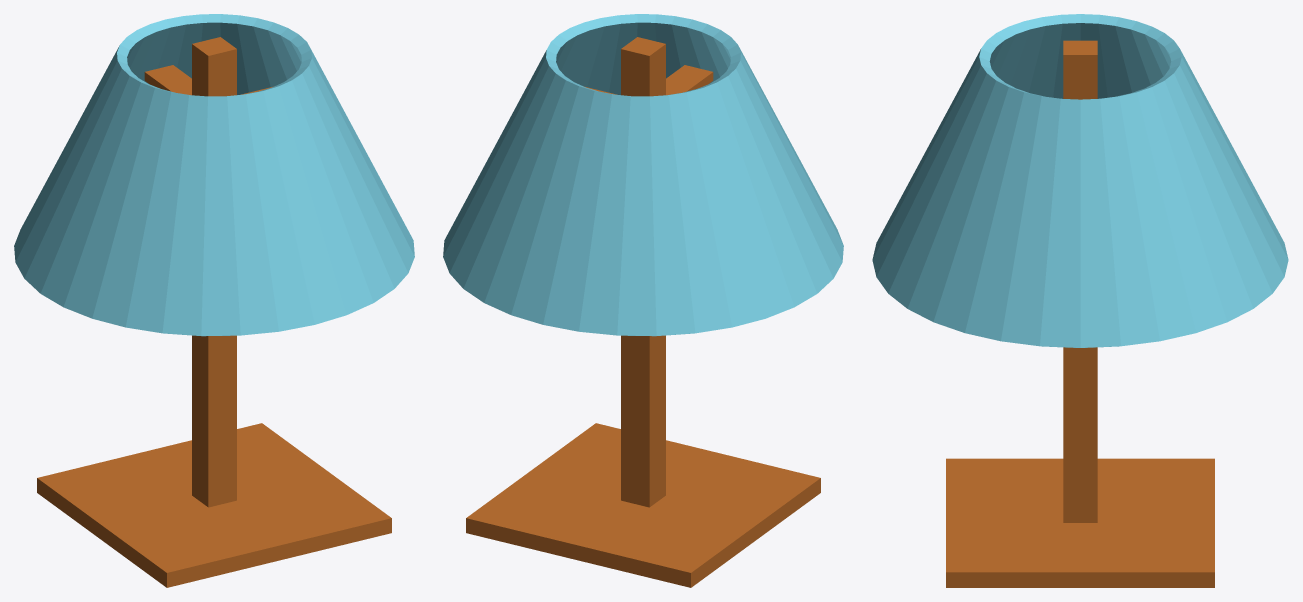
The model's file is smallLamp.fbx.
The picture shows the model from 3 angles, left to right: view 1: azimuth 30°, elevation 25°; view 2: azimuth 150°, elevation 25°; view 3: azimuth 270°, elevation 25°; orthographic projection. The views are drawn at different scales.
Visible parts, largest first — view 1: Circle, Plane; view 2: Circle, Plane; view 3: Circle, Plane.
Boxes of the visible parts, x1,y1,x2,y2 form: Circle: [14, 14, 414, 336]; Plane: [37, 37, 391, 587]; Circle: [443, 14, 843, 336]; Plane: [466, 37, 820, 587]; Circle: [872, 14, 1288, 347]; Plane: [946, 40, 1214, 587].
Bounding box in the file's own units: 179 × 229 × 179.
